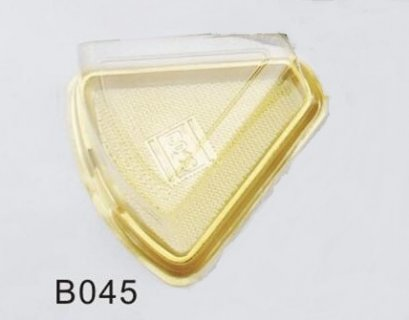PlasticBox: (61, 26, 334, 288)
